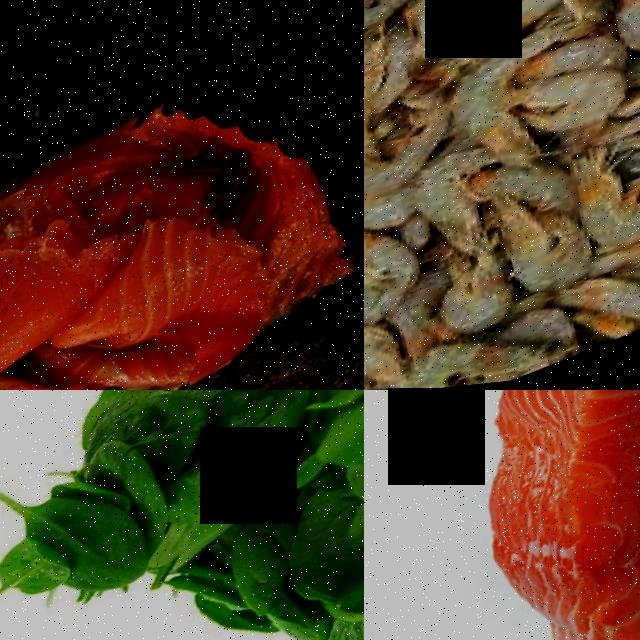salmon: (395, 390, 640, 640), (59, 213, 305, 390), (0, 224, 132, 390)
shrimp: (520, 59, 640, 158), (435, 248, 538, 353), (443, 57, 544, 163), (508, 209, 610, 310), (419, 160, 501, 269), (572, 154, 640, 271), (364, 0, 439, 57), (364, 292, 399, 390)
spinach: (149, 390, 337, 560), (58, 481, 164, 611), (0, 532, 76, 611)
